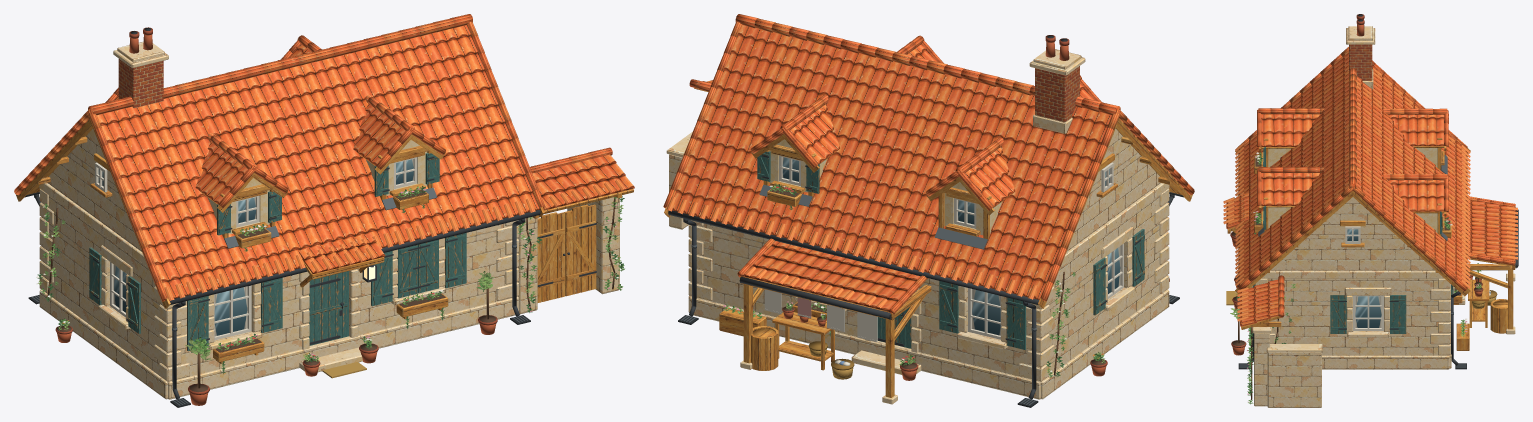
3 views of the same model, side by side, from view 1: azimuth 30°, elevation 25°; view 2: azimuth 150°, elevation 25°; view 3: azimuth 270°, elevation 25° (orthographic). The views are drawn at different scales.
Parts seen in each view (by area): view 1: seaside_roof, seaside_stone, detail_garden_gate, seaside_shutter, house_paint, seaside_ridge, seaside_timber, detail_window_boxes, alt_chimney_brick, detail_planters, house_window_pane, alt_shutters_drawn (+3 smaller); view 2: seaside_roof, seaside_stone, house_paint, seaside_timber, seaside_ridge, detail_yard, seaside_shutter, alt_chimney_brick, house_window_pane, detail_laundry, seaside_plaster, detail_garden_gate (+2 smaller); view 3: seaside_roof, seaside_stone, detail_garden_gate, seaside_timber, seaside_ridge, detail_yard, house_paint, seaside_shutter, alt_chimney_brick, seaside_plaster, house_window_pane, detail_window_boxes (+1 smaller).
Boxes of the visible parts, box(x1,y1,x2,y2) form: seaside_roof: box(14, 21, 545, 301); seaside_stone: box(39, 129, 518, 399); detail_garden_gate: box(518, 147, 634, 314); seaside_shutter: box(89, 153, 439, 351); house_paint: box(24, 156, 540, 407); seaside_ridge: box(88, 14, 472, 169); seaside_timber: box(16, 118, 544, 308); detail_window_boxes: box(213, 186, 448, 373); alt_chimney_brick: box(113, 27, 168, 108); detail_planters: box(55, 271, 497, 405); house_window_pane: box(98, 159, 413, 336); alt_shutters_drawn: box(397, 239, 438, 298); seaside_roof: box(663, 22, 1194, 314); seaside_stone: box(688, 129, 1169, 404); house_paint: box(668, 155, 1183, 407); seaside_timber: box(664, 118, 1192, 397); seaside_ridge: box(735, 14, 1120, 173); detail_yard: box(719, 301, 918, 380); seaside_shutter: box(757, 151, 1144, 349); alt_chimney_brick: box(1029, 35, 1085, 134); house_window_pane: box(782, 157, 1120, 335); detail_laundry: box(764, 289, 877, 341); seaside_plaster: box(769, 139, 1002, 235); detail_garden_gate: box(666, 79, 712, 229); seaside_roof: box(1223, 47, 1517, 291); seaside_stone: box(1251, 197, 1515, 369); detail_garden_gate: box(1237, 275, 1322, 407); seaside_timber: box(1227, 132, 1515, 329); seaside_ridge: box(1258, 68, 1447, 190); detail_yard: box(1456, 263, 1507, 350); house_paint: box(1226, 152, 1518, 369); seaside_shutter: box(1263, 147, 1453, 333); alt_chimney_brick: box(1346, 14, 1375, 89); seaside_plaster: box(1268, 148, 1437, 232); house_window_pane: box(1347, 229, 1381, 327); detail_window_boxes: box(1253, 152, 1462, 304).
Bounding box in the file's own units: 11.06 × 6.73 × 7.63.
Materials: 10 (9 with a texture image).
